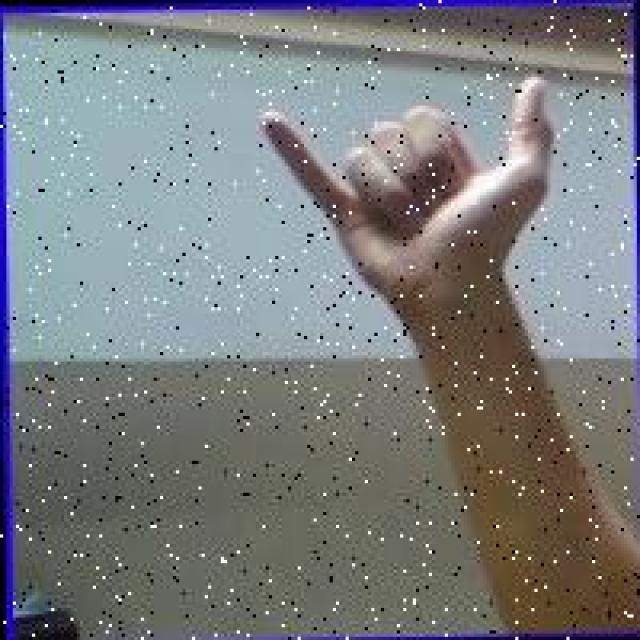Y: (254, 74, 565, 304)
